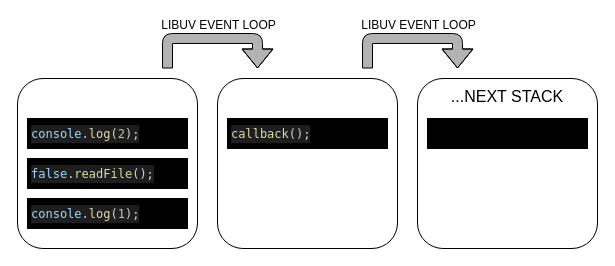
This 615x266 diagram has some shape labels left out. The shapes that lost their labels are listed below. From the top down, each one's box as (x1, y1, x2, y2) in pixels, then its label:
(426, 118, 588, 148): console . log ( 3 );
(16, 78, 198, 248): STACK V8
(216, 78, 398, 248): ASYNC API NODE
